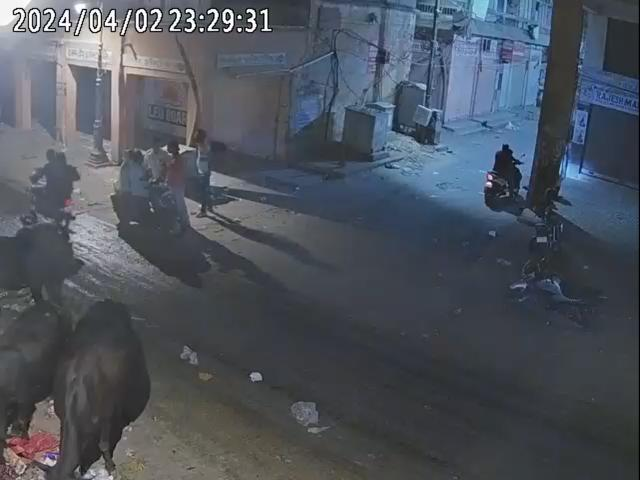cattle: (44, 299, 155, 480), (4, 296, 62, 456), (5, 213, 69, 305)
motorbike-rider: (26, 146, 84, 216), (486, 143, 530, 208)
scooty-rider: (104, 148, 182, 232)
